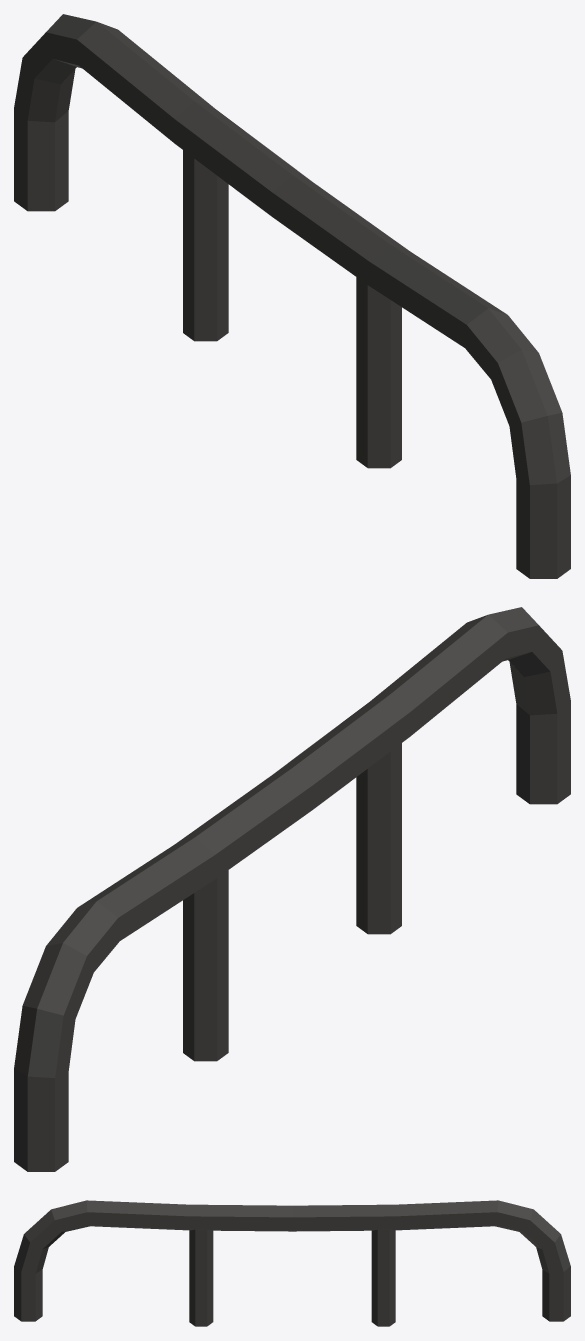
Rendered from SM_Props_City_PlayGround_Skatepark_FlatRail_02.fbx.
The picture shows the model from 3 angles, top to bottom: view 1: azimuth 30°, elevation 25°; view 2: azimuth 150°, elevation 25°; view 3: azimuth 270°, elevation 25°; orthographic projection. The views are drawn at different scales.
Visible parts, largest first — view 1: SM_Props_City_PlayGround_Skatepark_FlatRail_02; view 2: SM_Props_City_PlayGround_Skatepark_FlatRail_02; view 3: SM_Props_City_PlayGround_Skatepark_FlatRail_02.
Boxes of the visible parts, x1,y1,x2,y2 form: SM_Props_City_PlayGround_Skatepark_FlatRail_02: (14,14,570,578); SM_Props_City_PlayGround_Skatepark_FlatRail_02: (14,607,570,1171); SM_Props_City_PlayGround_Skatepark_FlatRail_02: (14,1200,570,1326).
Size of the model in its own units: 10.39 by 55.95 by 232.
